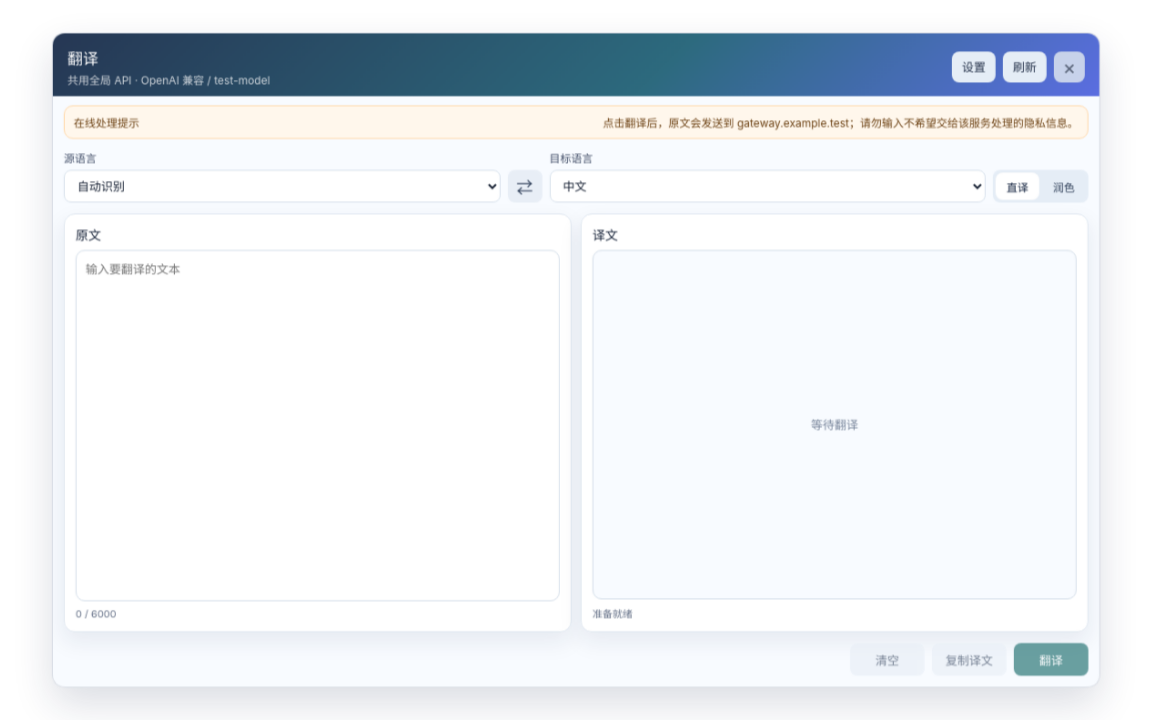
Scenario: TranslatorWindow › preserves language, polish and copy controls and displays the actual selection translation service
Select "英文" in the dropdown labelled "源语言": (282, 186) [64, 170, 500, 203]
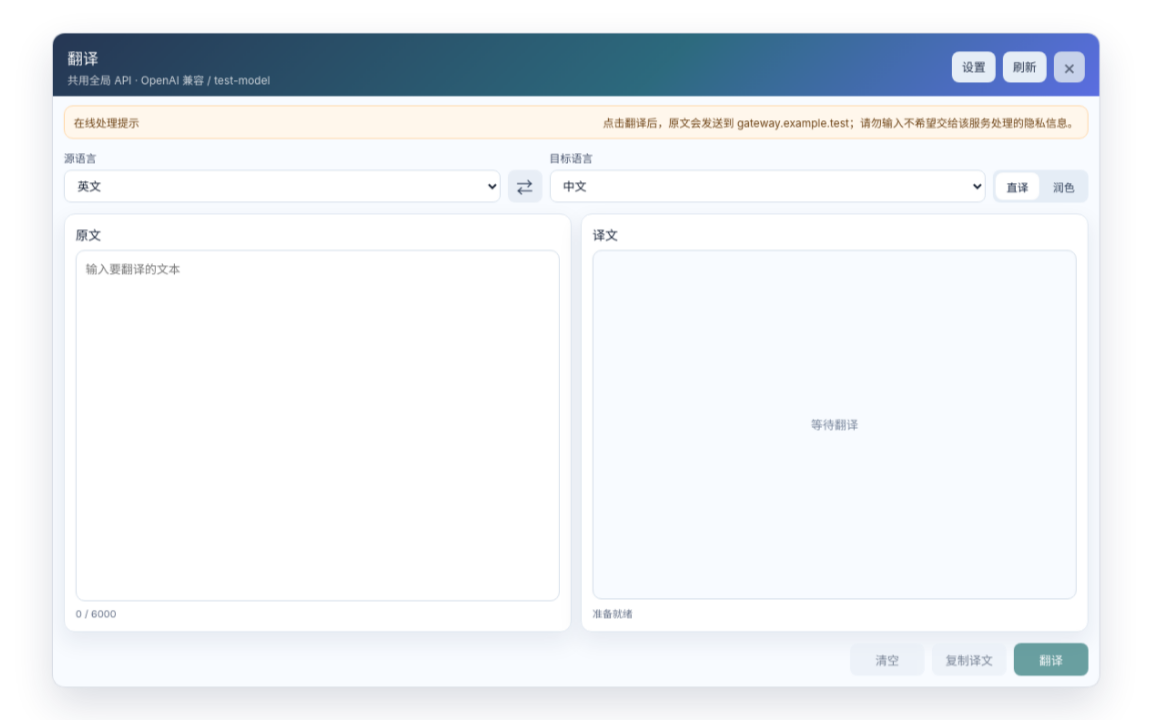
Select "中文" in the dropdown labelled "目标语言": (767, 186) [549, 170, 986, 203]
Click the button "润色": (1064, 186) [1042, 172, 1086, 200]
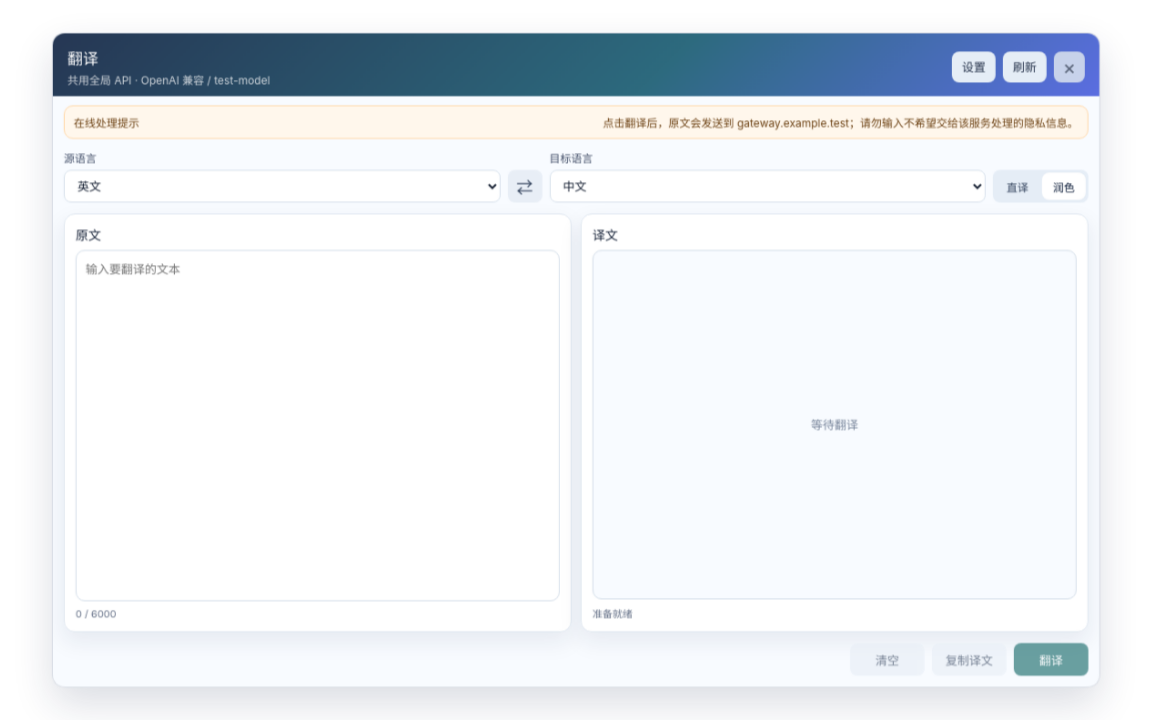
In the text box labelled "原文 0 / 6000": (318, 426) [76, 250, 560, 601], type "test input"
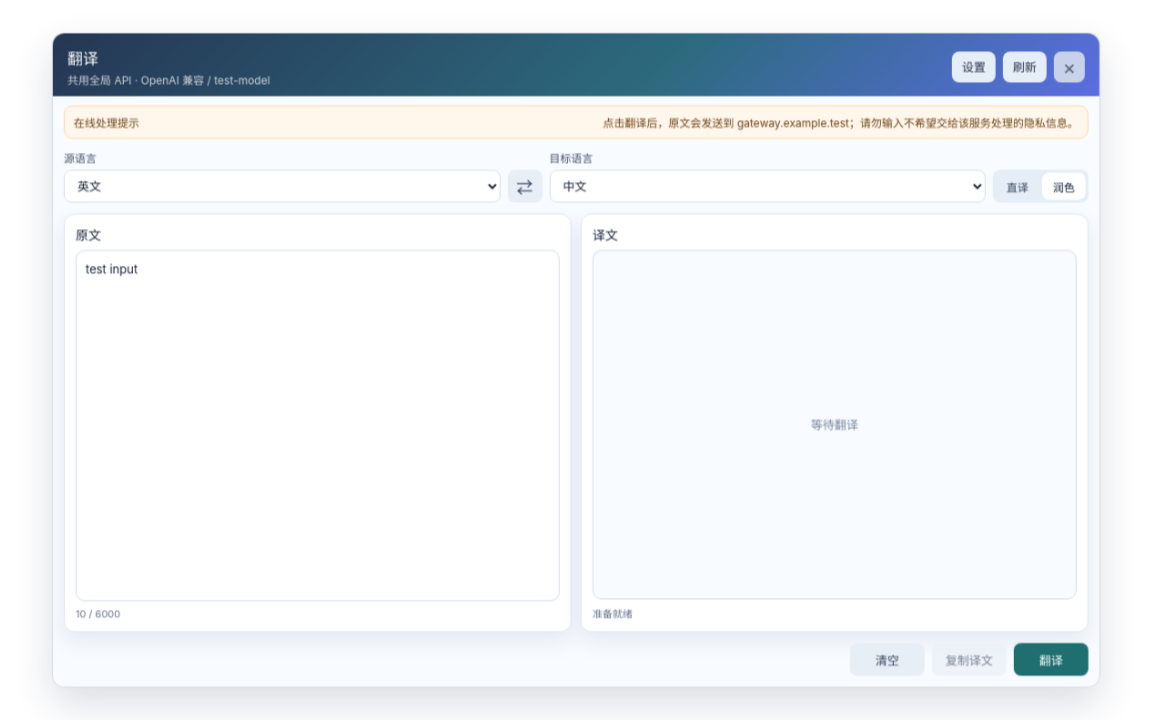
Click the button with class "translator-primary-button": (1051, 659) [1014, 643, 1088, 676]
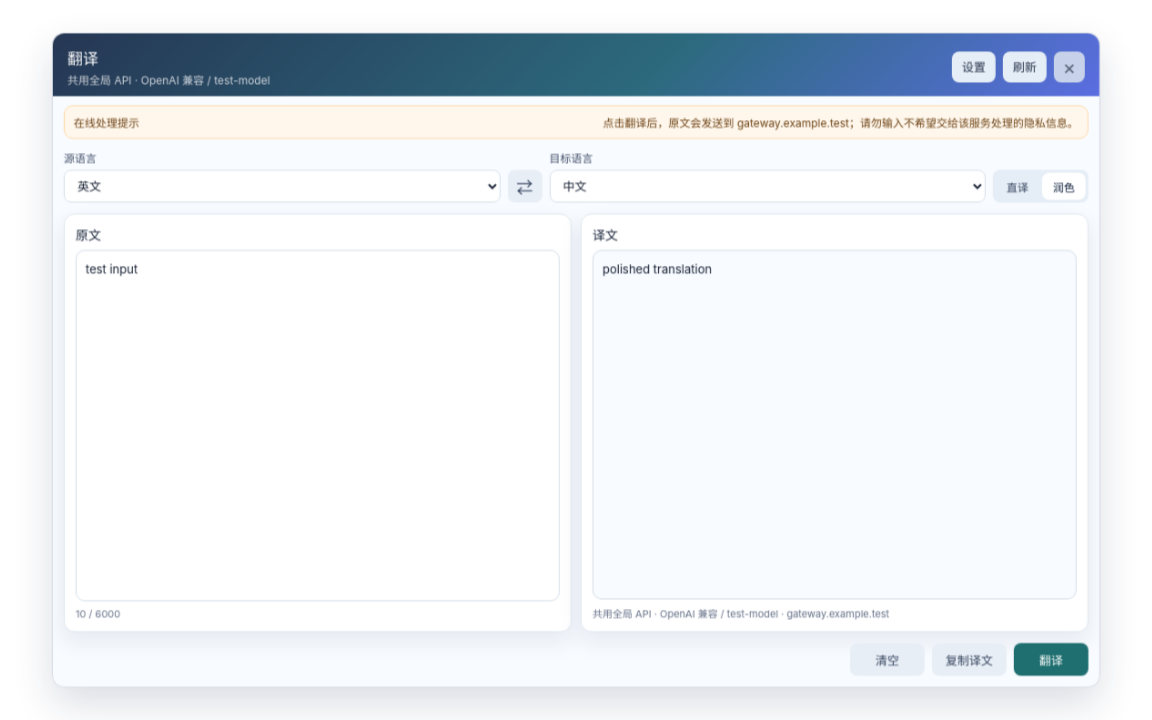
Click the button "复制译文": (969, 659) [932, 643, 1006, 676]
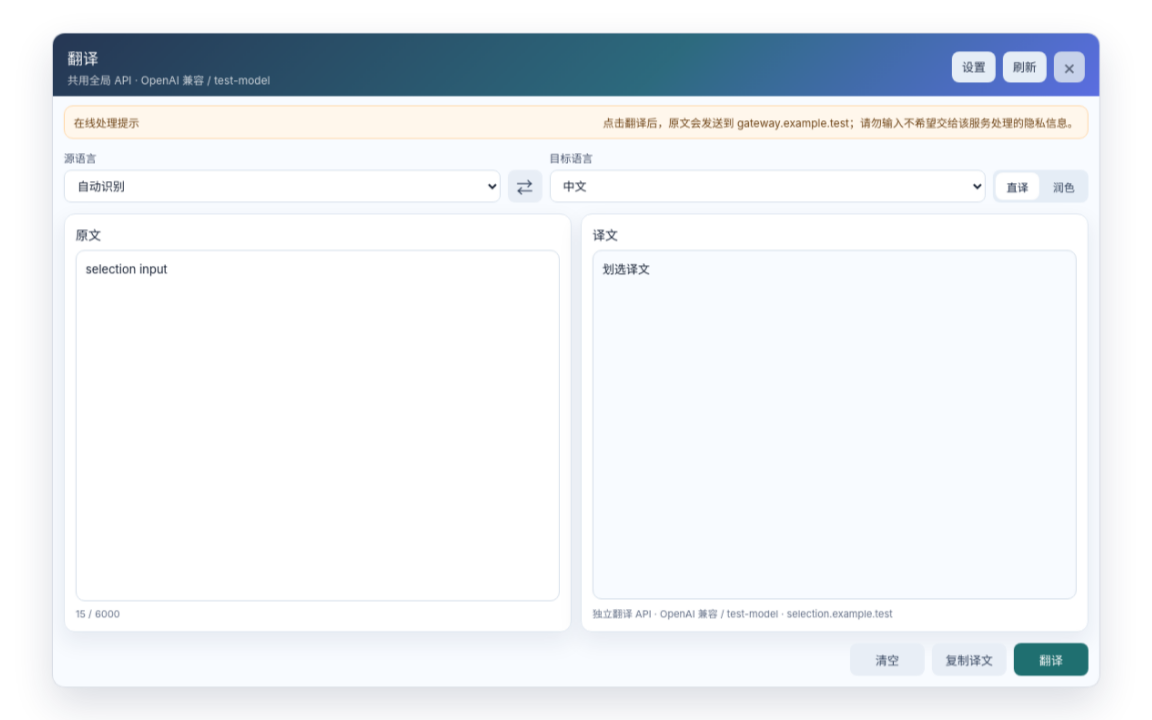
Expected: the text with class "translator-output" reads "划选译文", [602, 262, 650, 276]
Expected: the message "独立翻译 API · OpenAI 兼容 / test-model · selection.example.test" is shown, [592, 608, 892, 620]
